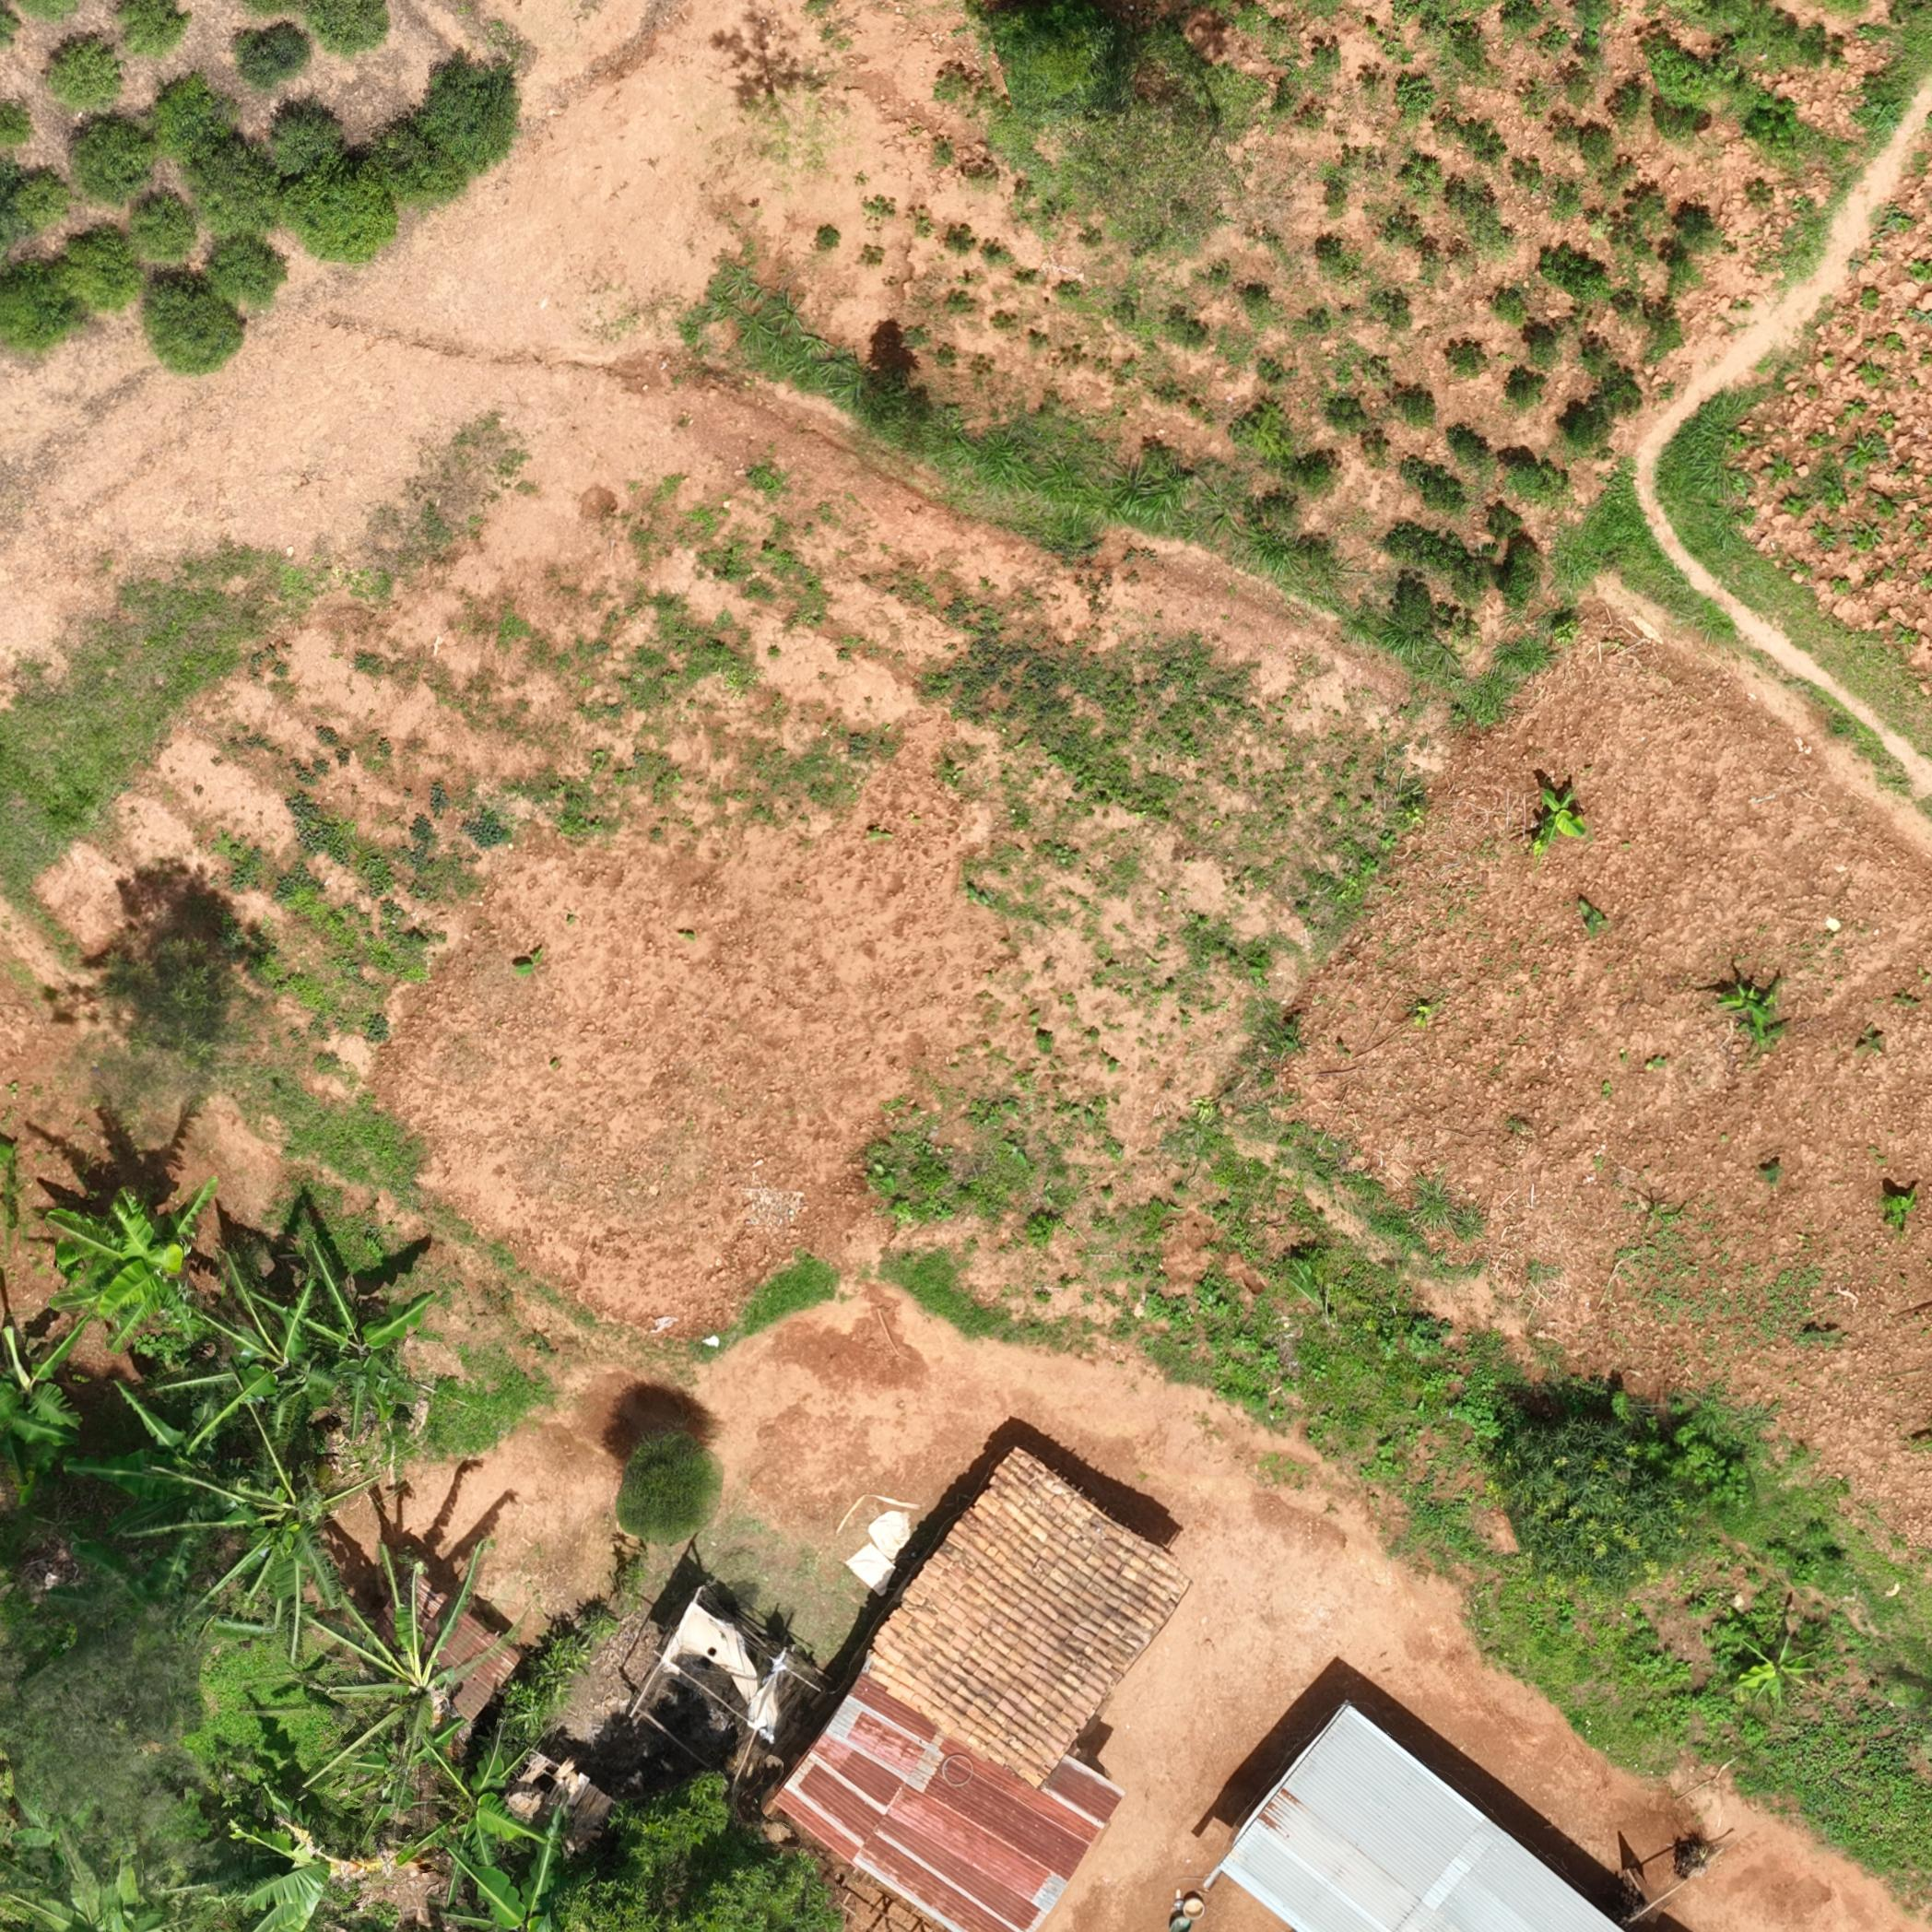Banana: (46, 1178, 225, 1341), (200, 1461, 366, 1610), (310, 1626, 488, 1753), (200, 1288, 341, 1447), (327, 1254, 433, 1449), (126, 1407, 239, 1564), (223, 1810, 372, 1907), (9, 1318, 90, 1477), (1725, 1624, 1831, 1739), (418, 1764, 563, 1847), (421, 1863, 616, 1921), (324, 1732, 464, 1812), (18, 1867, 186, 1927), (1716, 977, 1789, 1044), (1530, 787, 1583, 858)
